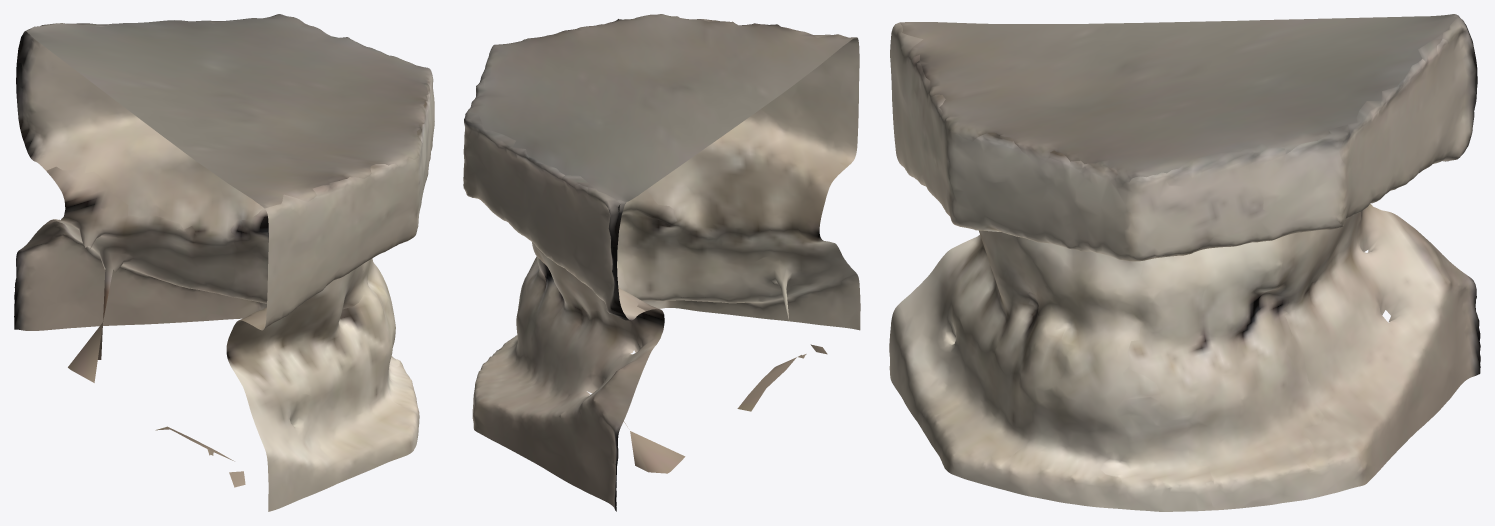
File: M-J-B-Closed-OK.fbx
The picture shows the model from 3 angles, left to right: view 1: azimuth 30°, elevation 25°; view 2: azimuth 150°, elevation 25°; view 3: azimuth 270°, elevation 25°; orthographic projection. The views are drawn at different scales.
Parts seen in each view (by area): view 1: mainMeshNode; view 2: mainMeshNode; view 3: mainMeshNode.
Part boxes in pixels (x1,y1,x2,y2): mainMeshNode: (14, 14, 434, 511); mainMeshNode: (463, 14, 860, 511); mainMeshNode: (889, 14, 1480, 511).
Bounding box in the file's own units: 0.0451 × 0.0721 × 0.0488.
1 material, 1 textured.
